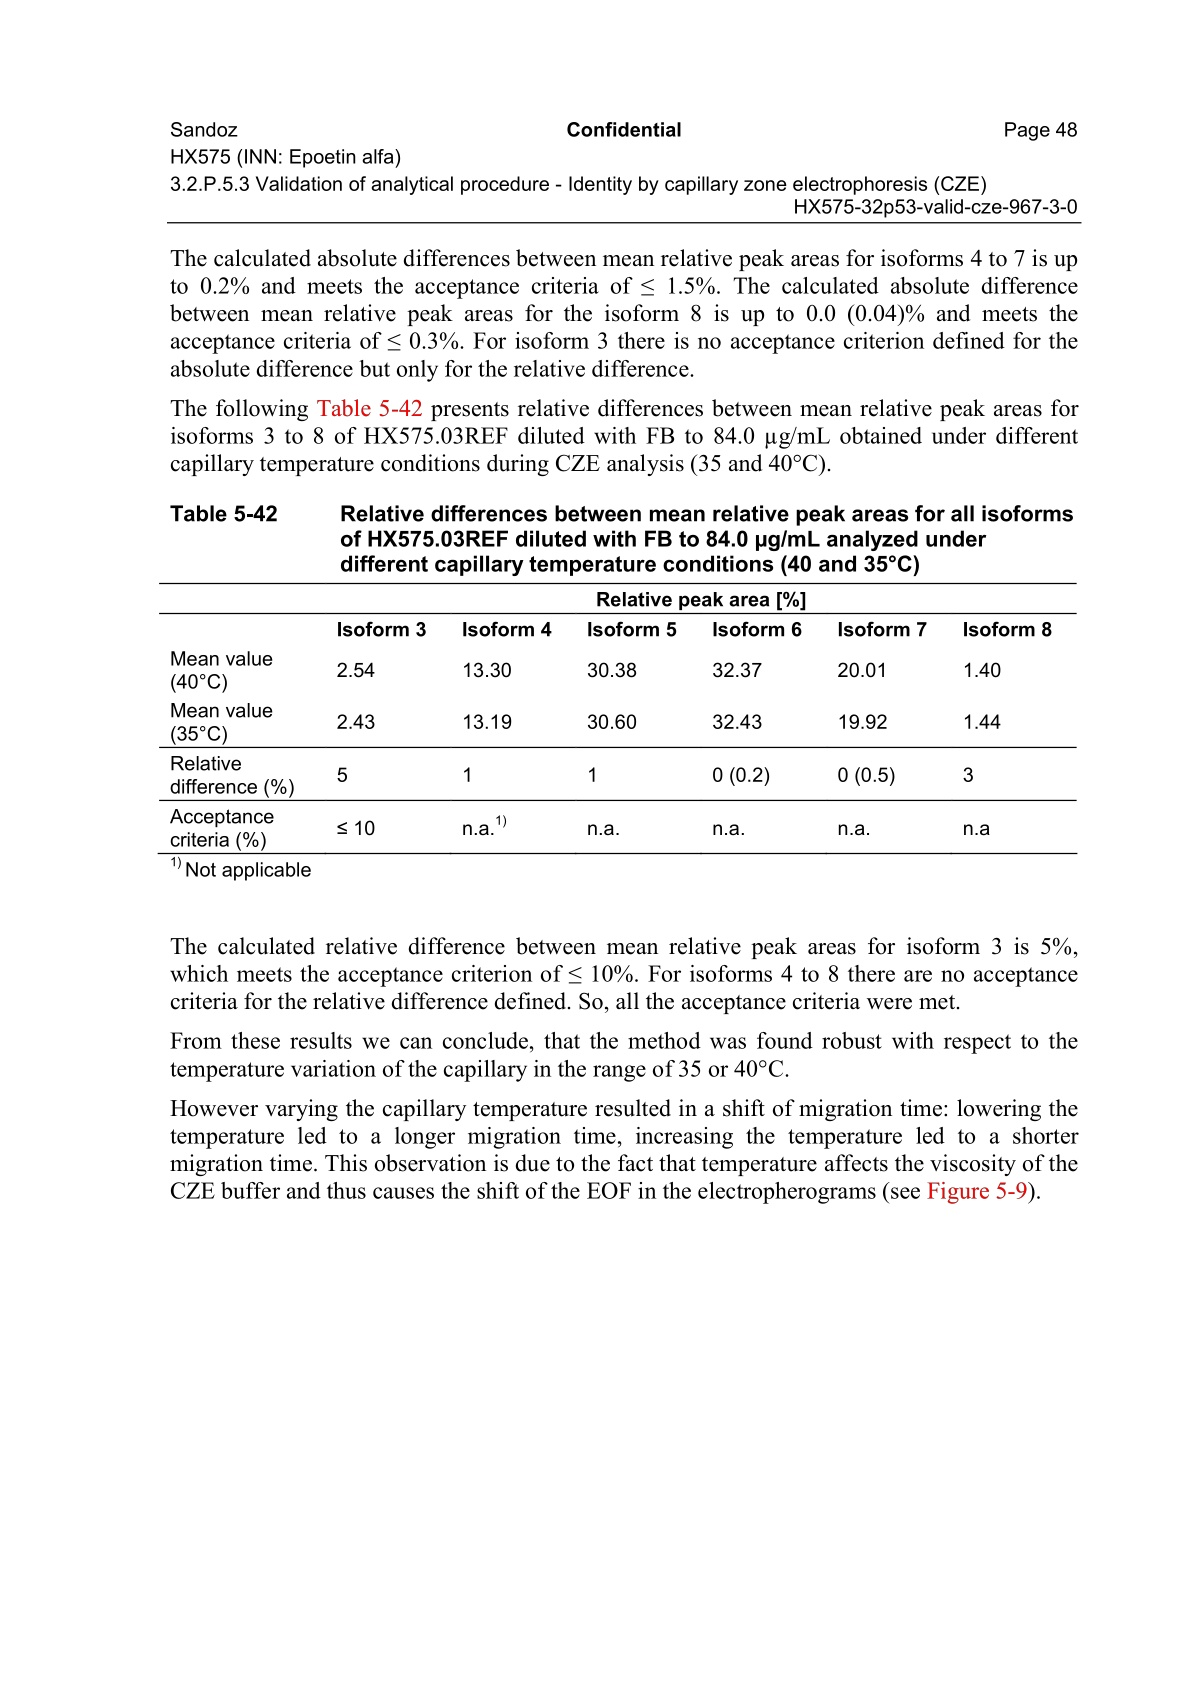partial_lined_merged_cells: (159, 581, 1078, 856)
